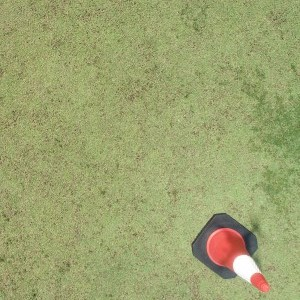traffic cone: (191, 212, 270, 292)
